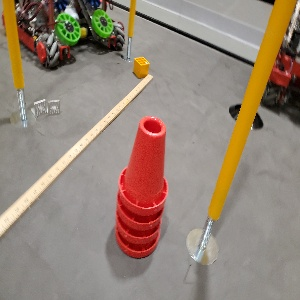Red_4: (115, 115, 167, 258)
